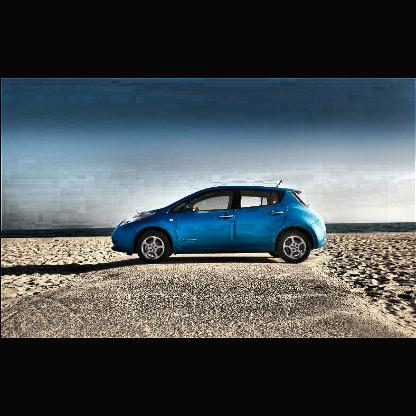Nissan Leaf Hatchback 2012: (109, 179, 327, 263)
